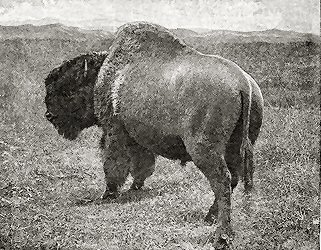yak: (43, 20, 267, 248)
